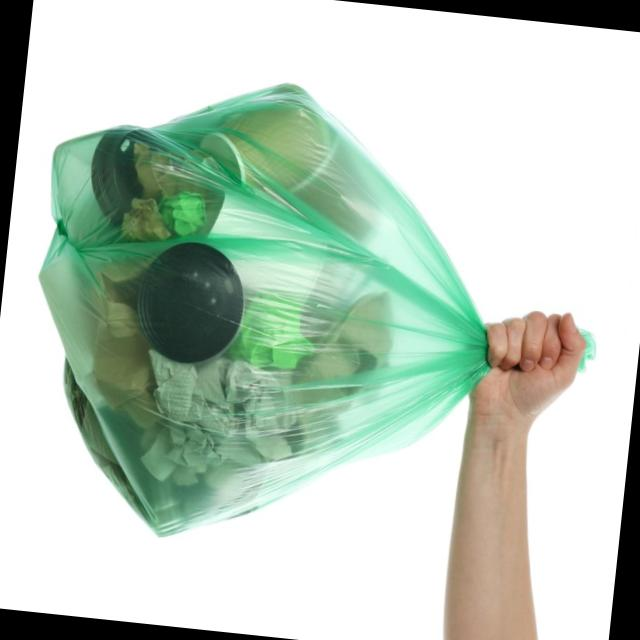plastic_bag: (23, 36, 614, 581)
